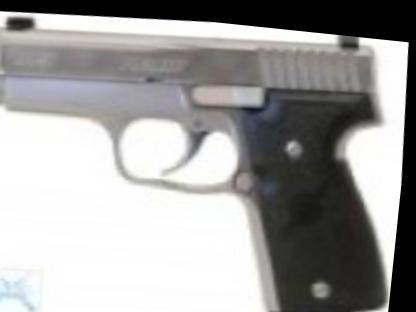pistol: (0, 0, 414, 311)
